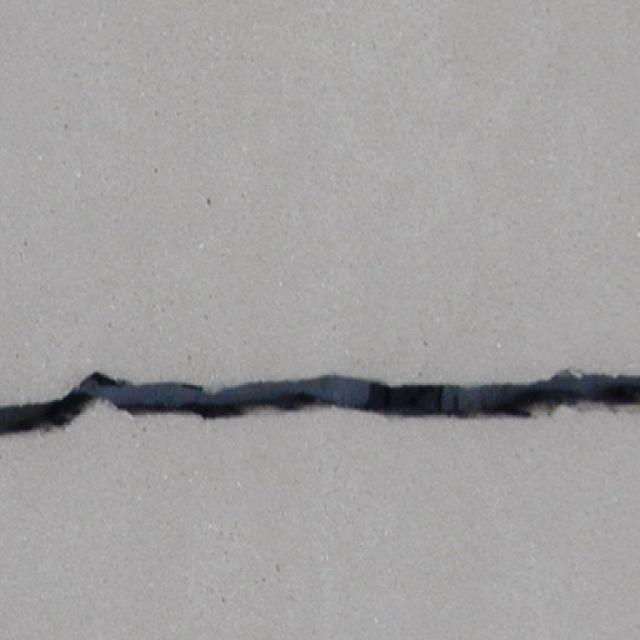crack: (1, 366, 638, 446)
